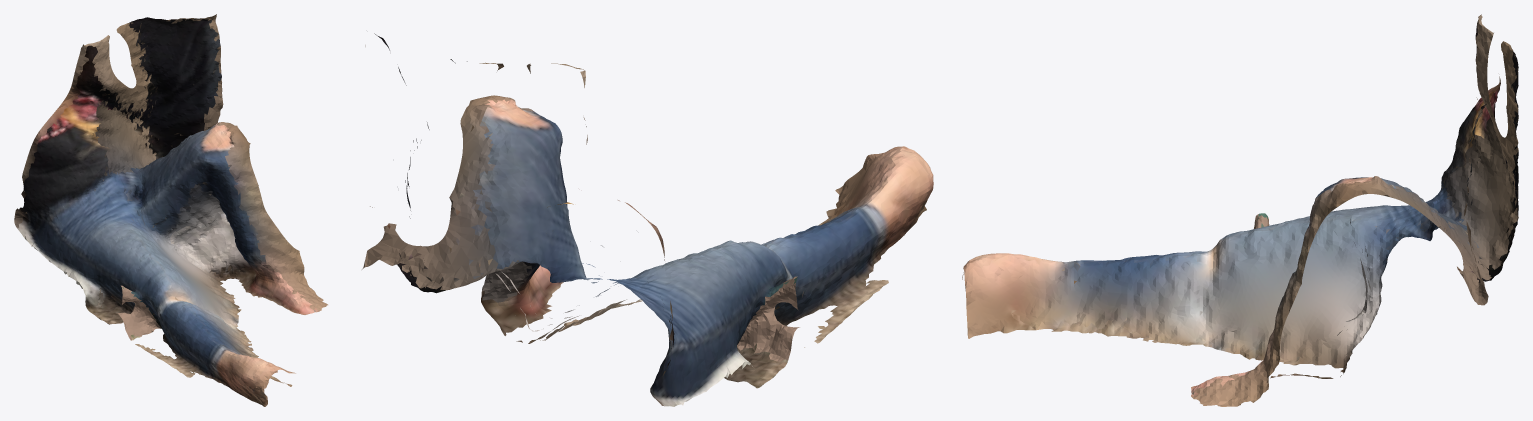
3 views of the same model, side by side, from view 1: azimuth 30°, elevation 25°; view 2: azimuth 150°, elevation 25°; view 3: azimuth 270°, elevation 25° (orthographic). The views are drawn at different scales.
Size of the model in its own units: 0.6099 by 0.637 by 1.08.
Materials: 1 (1 with a texture image).
